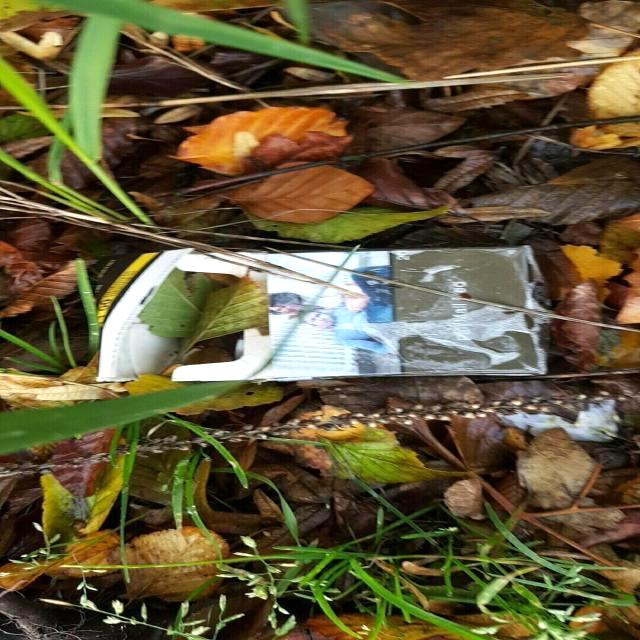Paper: (88, 240, 552, 386)
